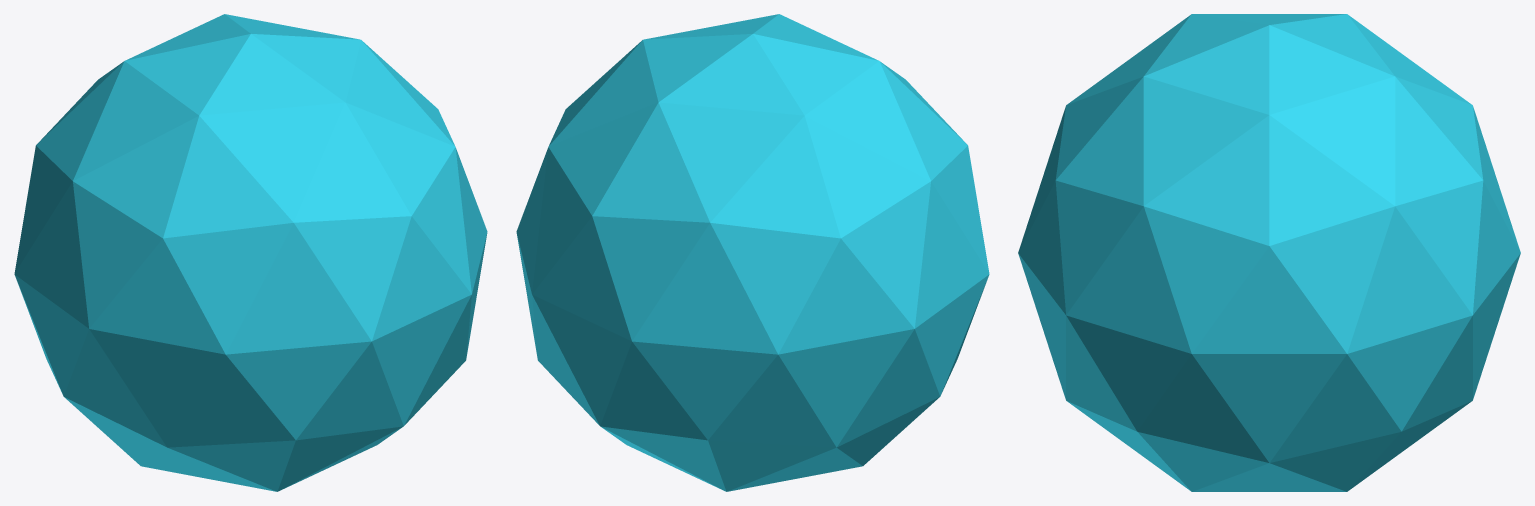
File: layered_planet_basic.glb
3 views of the same model, side by side, from view 1: azimuth 30°, elevation 25°; view 2: azimuth 150°, elevation 25°; view 3: azimuth 270°, elevation 25° (orthographic). The views are drawn at different scales.
Visible parts, largest first — view 1: layered_planet_basic; view 2: layered_planet_basic; view 3: layered_planet_basic.
Part boxes in pixels (box(x1,y1,x2,y2)): layered_planet_basic: box(14, 14, 487, 491); layered_planet_basic: box(516, 14, 989, 491); layered_planet_basic: box(1018, 14, 1520, 491).
Bounding box in the file's own units: 1.9 × 2 × 2.
